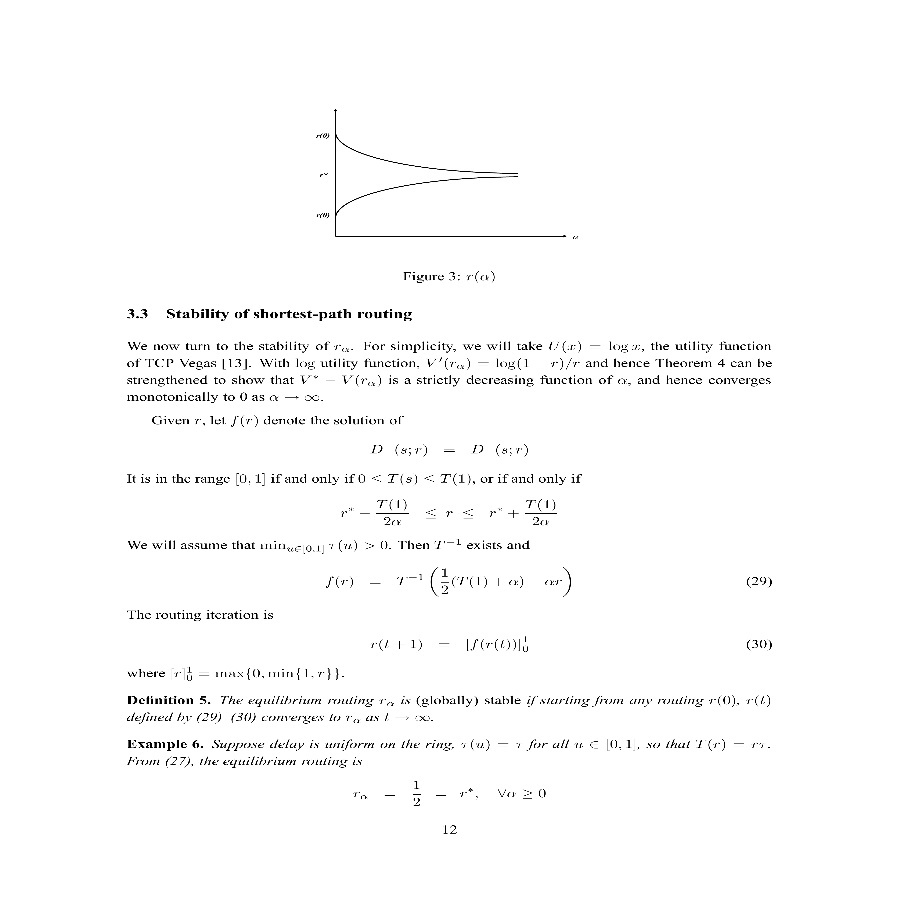eq: (318, 563, 577, 603), (336, 494, 561, 533), (351, 776, 554, 808), (367, 628, 536, 656), (369, 440, 534, 461)
